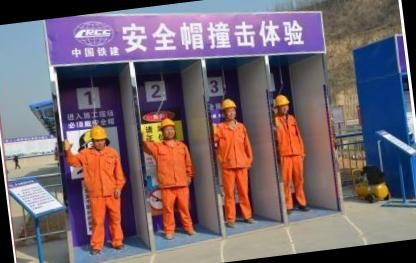Vest: (150, 138, 193, 190), (82, 146, 120, 200), (216, 122, 247, 166), (274, 116, 304, 158)
